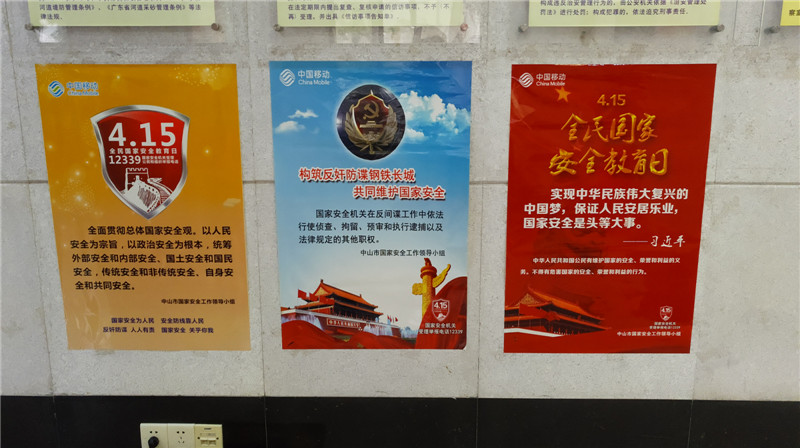bill: (34, 61, 251, 353), (504, 63, 717, 352), (268, 60, 473, 351)
